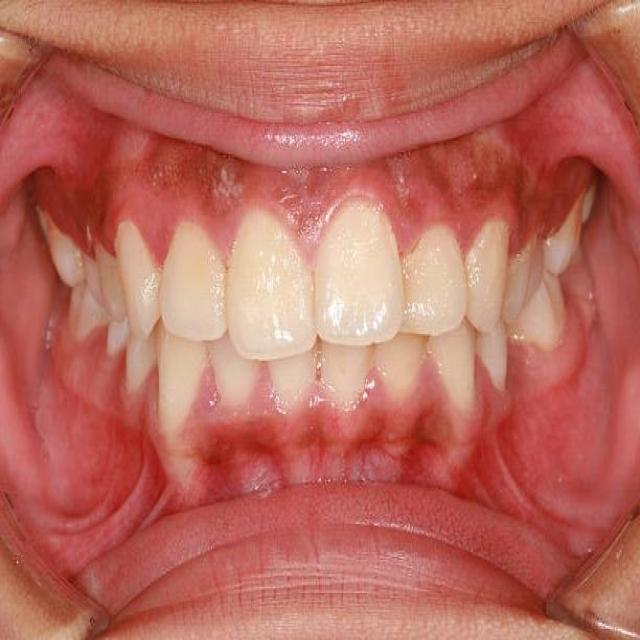Gingivitis: (209, 400, 487, 474), (399, 148, 569, 232), (138, 138, 250, 210)
